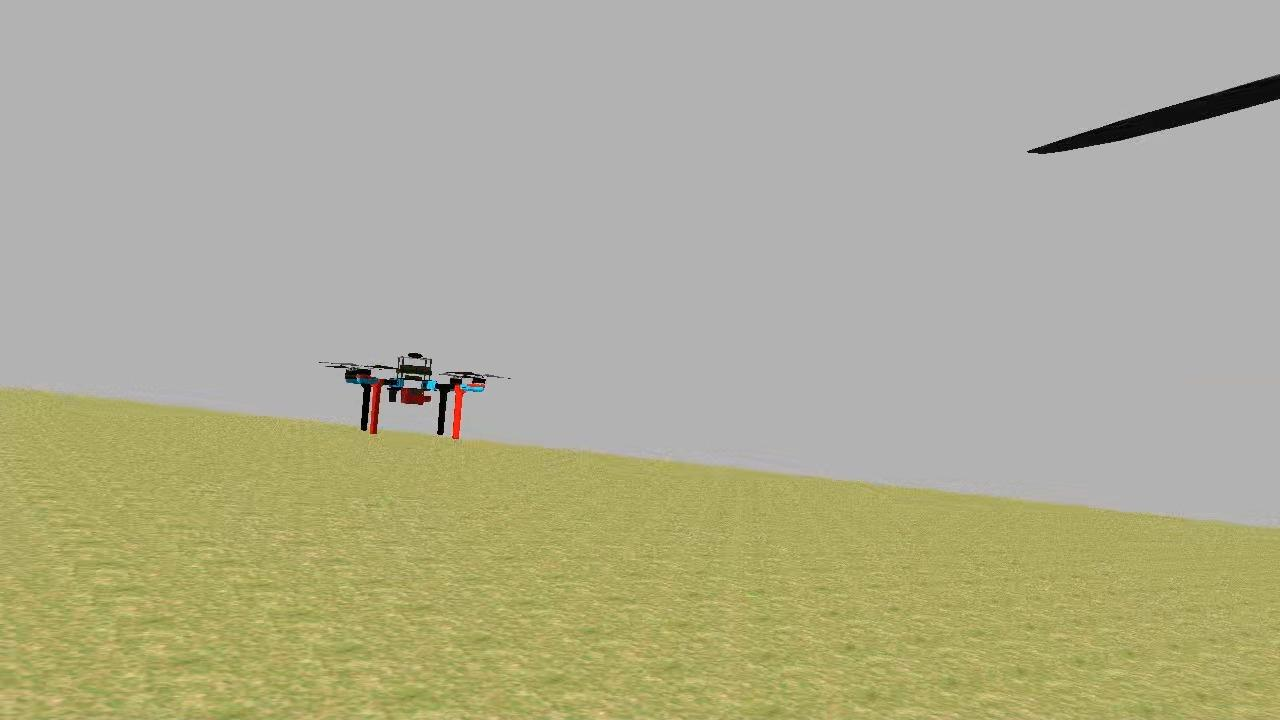UAV: (336, 348, 492, 444)
